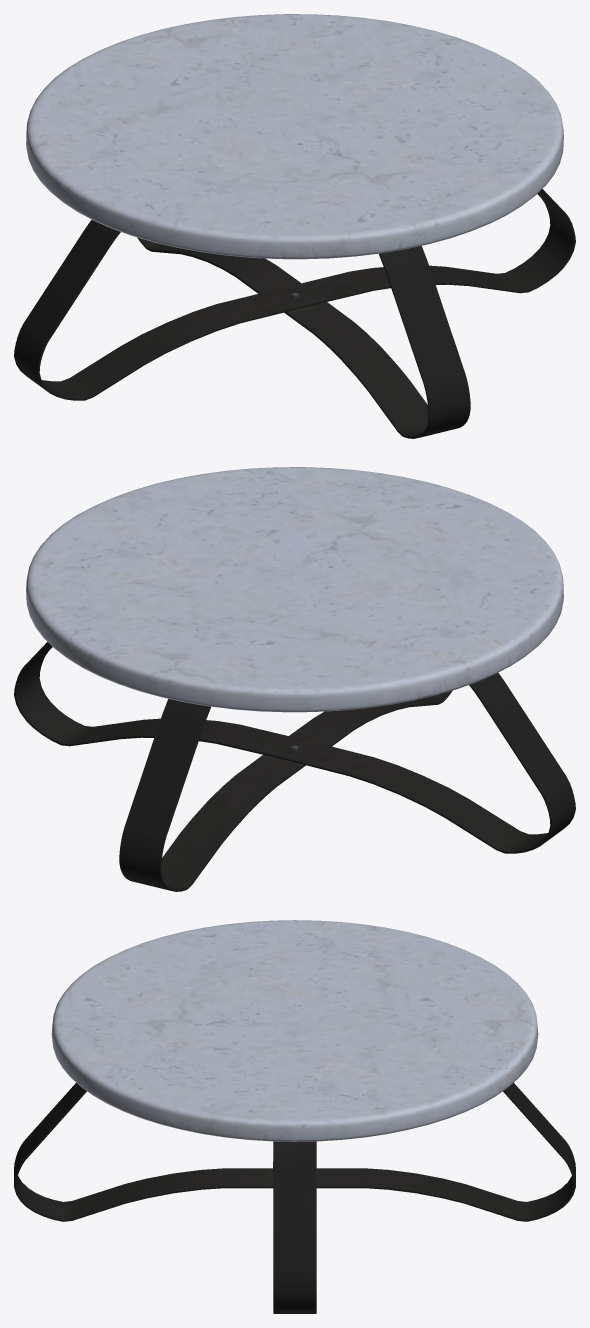
The model's file is coffee-table-round.glb.
3 renders of one model, top to bottom at view 1: azimuth 30°, elevation 25°; view 2: azimuth 150°, elevation 25°; view 3: azimuth 270°, elevation 25°, orthographic. The views are drawn at different scales.
Visible parts, largest first — view 1: coffee-table-round; view 2: coffee-table-round; view 3: coffee-table-round.
Boxes of the visible parts, bbox=[...] form: coffee-table-round: bbox=[14, 14, 575, 438]; coffee-table-round: bbox=[14, 467, 575, 891]; coffee-table-round: bbox=[14, 920, 575, 1313].
Size of the model in its own units: 1.3 by 0.4912 by 1.3.
1 material, 1 textured.
